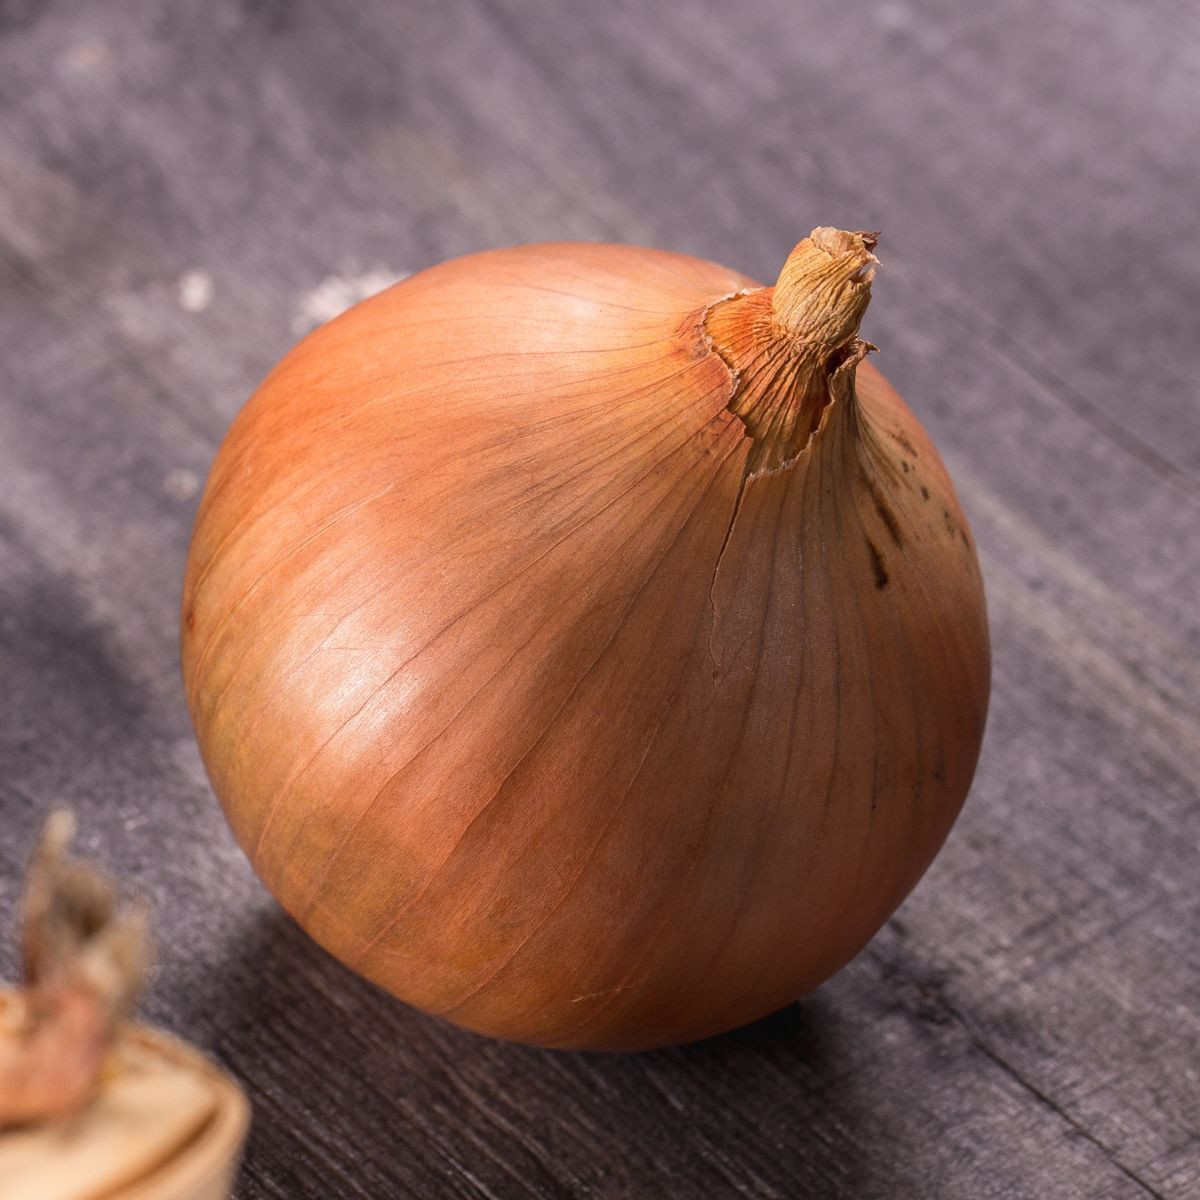onion: (171, 216, 1000, 1057)
